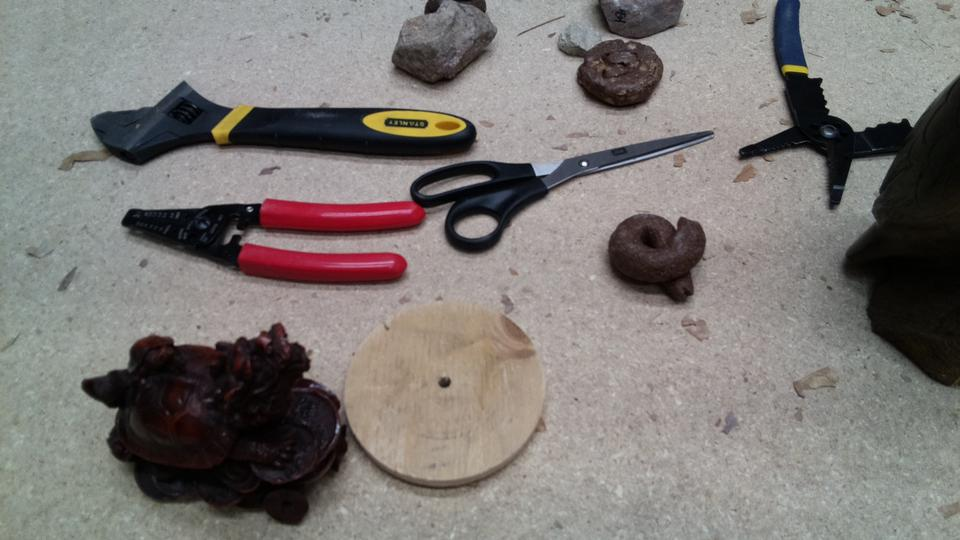poop: (605, 209, 706, 307), (574, 38, 667, 114)
